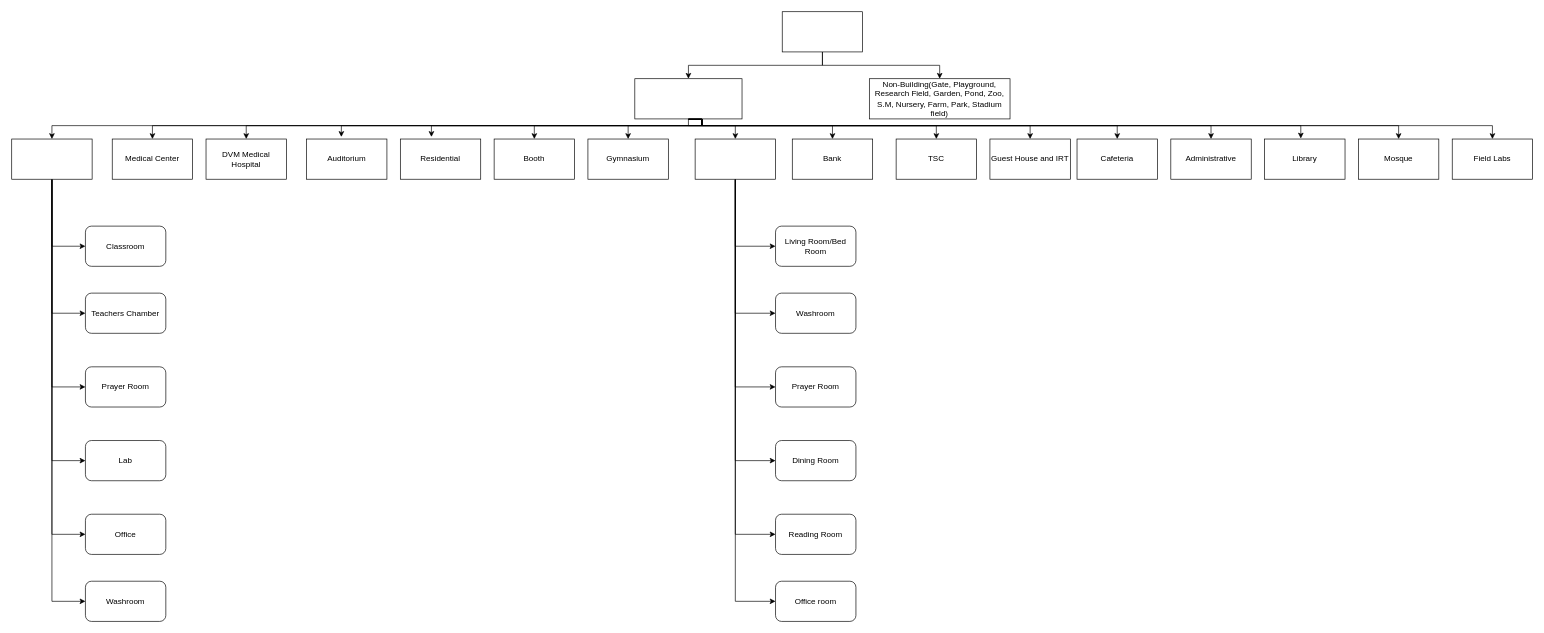
This 1544x633 diagram has some shape labels left out. Here are the shapes that lost their labels. From the top down, the centre of each, then its label:
At point (822, 31): "HSTU".
At point (688, 98): "Building".
At point (51, 158): "Academic".
At point (735, 158): "Dormitory(Boy/Girl)".
